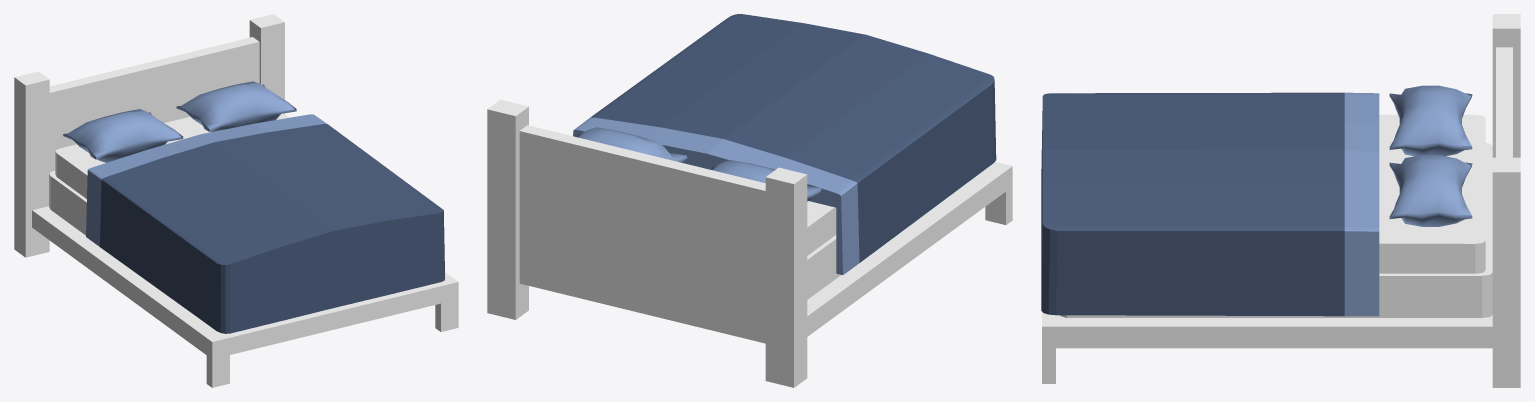
The model's file is Lv2 DoubleBed.fbx.
The picture shows the model from 3 angles, left to right: view 1: azimuth 30°, elevation 25°; view 2: azimuth 150°, elevation 25°; view 3: azimuth 270°, elevation 25°; orthographic projection. The views are drawn at different scales.
Visible parts, largest first — view 1: Lv2 Bed.001; view 2: Lv2 Bed.001; view 3: Lv2 Bed.001.
Boxes of the visible parts, <box> form: Lv2 Bed.001: <box>14,14,458,387</box>; Lv2 Bed.001: <box>487,14,1012,387</box>; Lv2 Bed.001: <box>1041,14,1520,387</box>.
Size of the model in its own units: 145 by 92.19 by 186.
